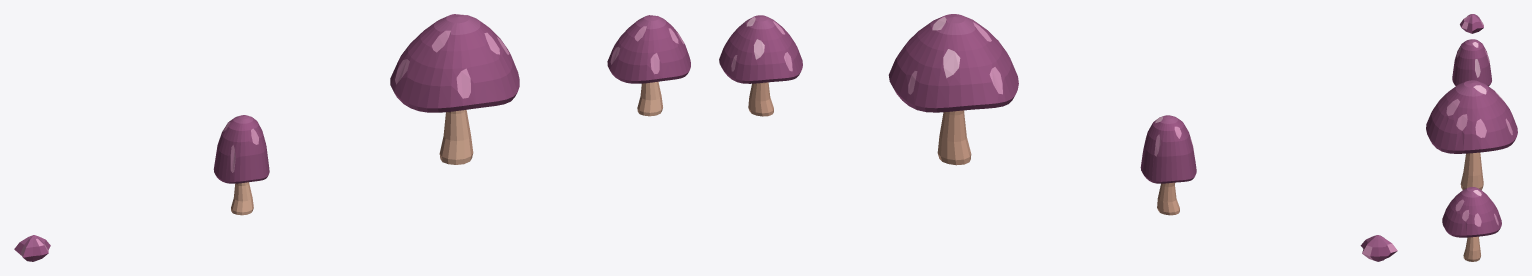
The picture shows the model from 3 angles, left to right: view 1: azimuth 30°, elevation 25°; view 2: azimuth 150°, elevation 25°; view 3: azimuth 270°, elevation 25°; orthographic projection. The views are drawn at different scales.
Parts seen in each view (by area): view 1: G_3, G_4, G_2, G_1; view 2: G_3, G_4, G_2, G_1; view 3: G_3, G_4, G_2, G_1.
Boxes of the visible parts, x1=… form: G_3: x1=390, y1=14, x2=519, y2=164; G_4: x1=607, y1=15, x2=690, y2=116; G_2: x1=213, y1=115, x2=269, y2=215; G_1: x1=14, y1=235, x2=50, y2=261; G_3: x1=888, y1=14, x2=1018, y2=165; G_4: x1=719, y1=15, x2=802, y2=116; G_2: x1=1140, y1=115, x2=1196, y2=215; G_1: x1=1360, y1=235, x2=1397, y2=261; G_3: x1=1426, y1=80, x2=1517, y2=189; G_4: x1=1442, y1=187, x2=1501, y2=261; G_2: x1=1452, y1=39, x2=1491, y2=86; G_1: x1=1460, y1=14, x2=1483, y2=33.
Bounding box in the file's own units: 322 × 65 × 51.4.
